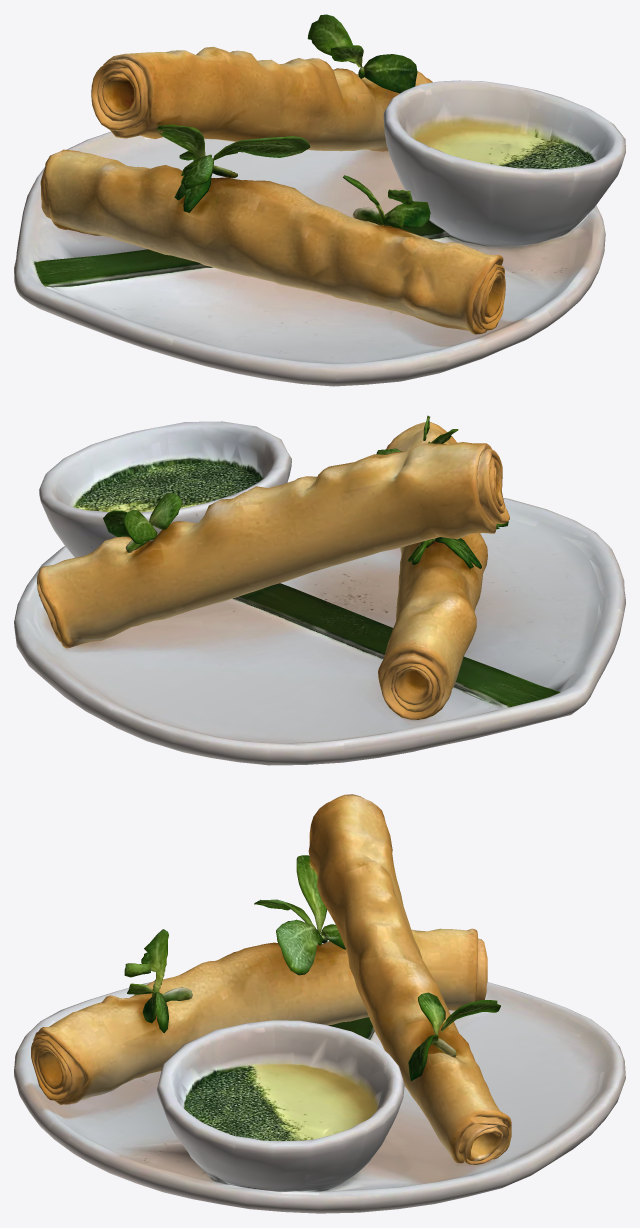
The model's file is spring-rolls-lite.glb.
3 views of the same model, one above another, from view 1: azimuth 30°, elevation 25°; view 2: azimuth 150°, elevation 25°; view 3: azimuth 270°, elevation 25° (orthographic). The views are drawn at different scales.
Parts seen in each view (by area): view 1: tripo_node_e25c2720; view 2: tripo_node_e25c2720; view 3: tripo_node_e25c2720.
Part boxes in pixels (x1,y1,x2,y2): tripo_node_e25c2720: [14, 14, 625, 386]; tripo_node_e25c2720: [14, 415, 625, 765]; tripo_node_e25c2720: [14, 794, 625, 1213].
Size of the model in its own units: 0.21 by 0.0881 by 0.2096.
1 material, 1 textured.
